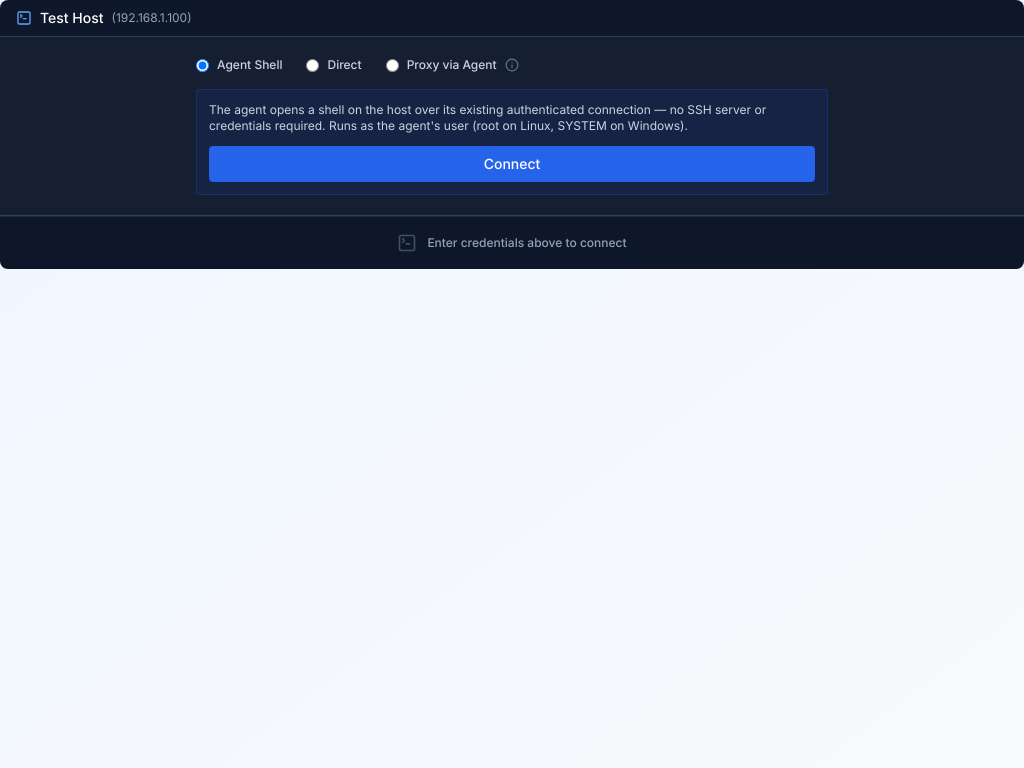
SshTerminal Component › Authentication Methods › should show password authentication by default in Direct mode
This screenshot has width=1024, height=768.
Click the radio button labelled "Direct".
click(313, 65)  # box [306,58,320,72]
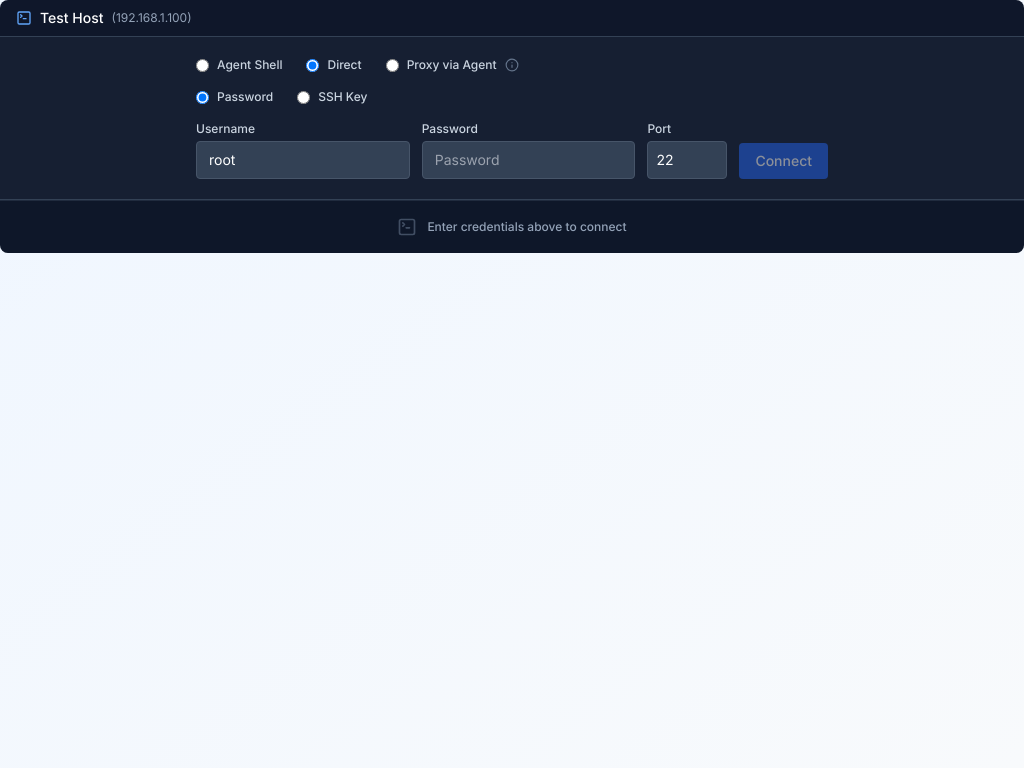
Check: the password field with placeholder "Password" is shown, box [422,141,635,179]
